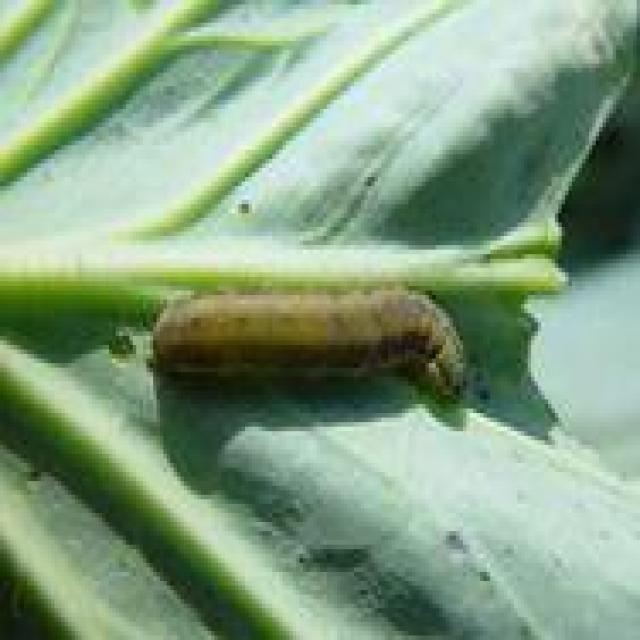BeetArmyWorm-Larva-: (146, 273, 481, 415)
